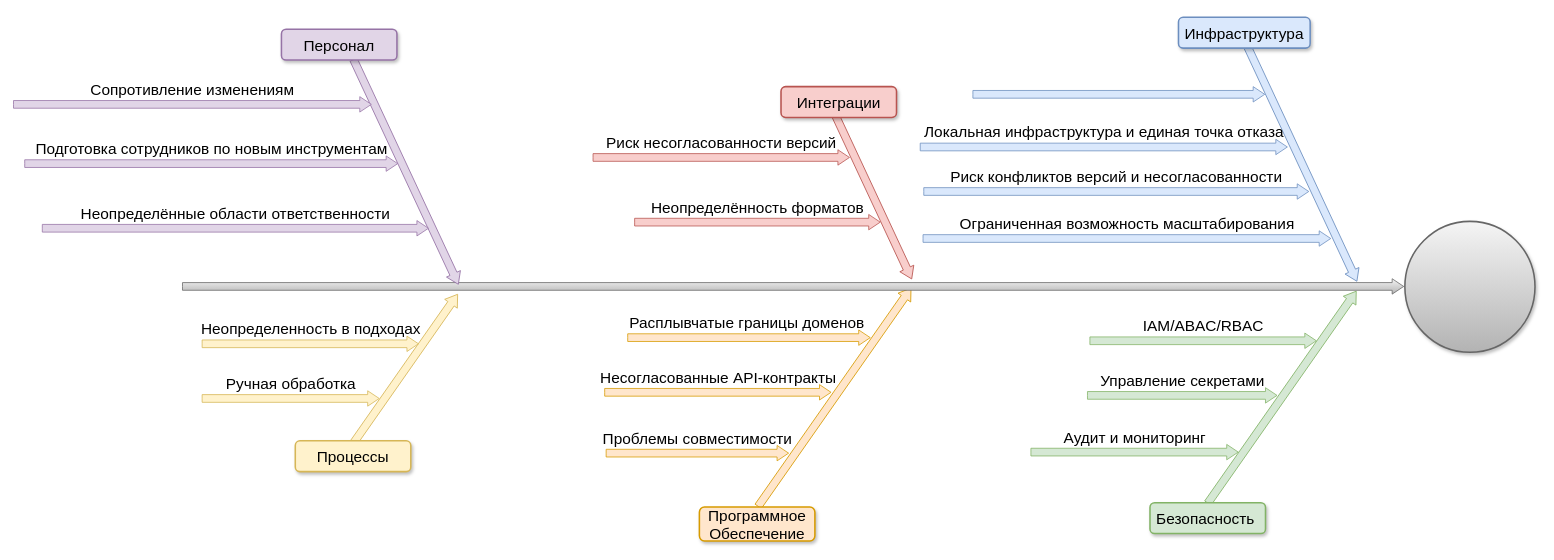
This 1554x560 diagram has some shape labels left out. The shapes that lost their labels are listed below. From the top down, each one's centre as x and y in pixels, then its label:
At [1118,94]: "Отсутствие IaC, CI/CD".
At [1470,287]: "Узкие места миграции".
